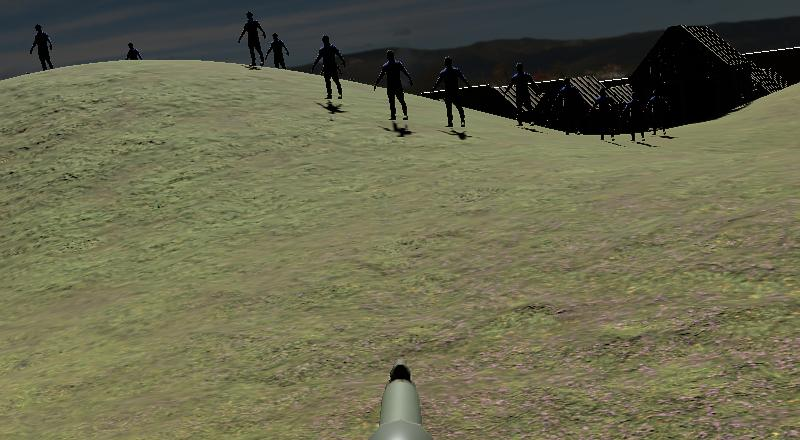Human: (124, 40, 145, 66)
